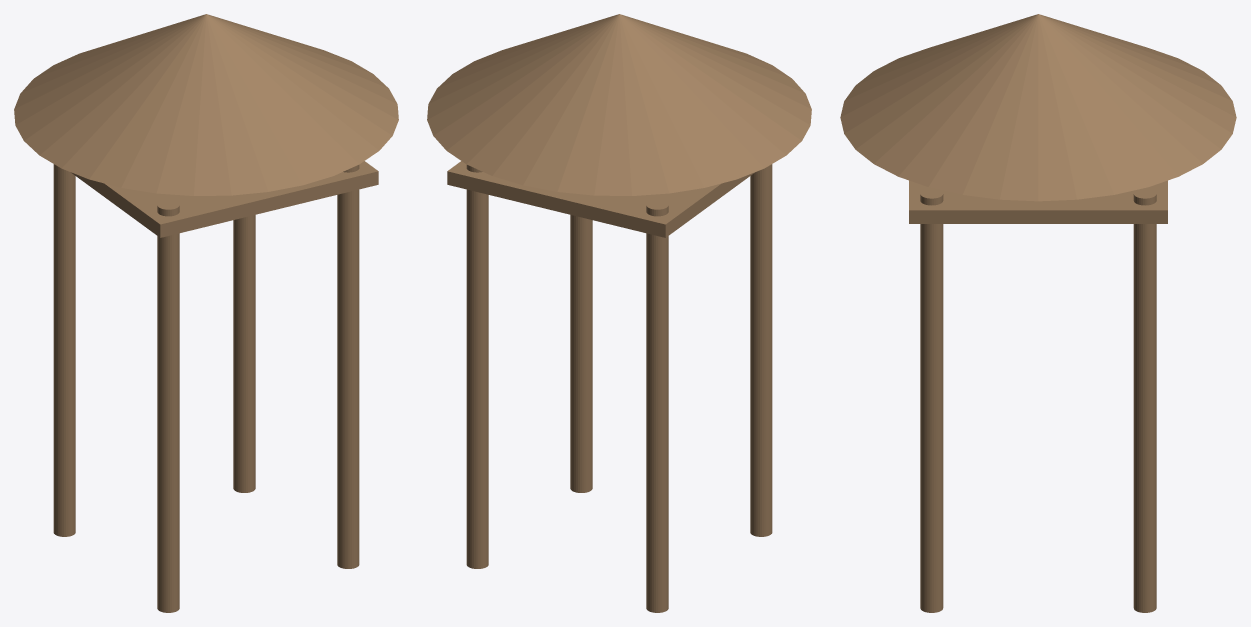
The model's file is watchtower.glb.
3 renders of one model, left to right at view 1: azimuth 30°, elevation 25°; view 2: azimuth 150°, elevation 25°; view 3: azimuth 270°, elevation 25°, orthographic. The views are drawn at different scales.
Parts seen in each view (by area): view 1: Watchtower; view 2: Watchtower; view 3: Watchtower.
Boxes of the visible parts, bbox=[...] form: Watchtower: bbox=[14, 14, 398, 612]; Watchtower: bbox=[427, 14, 811, 612]; Watchtower: bbox=[840, 14, 1236, 612].
Bounding box in the file's own units: 5.2 × 7.95 × 5.2.
